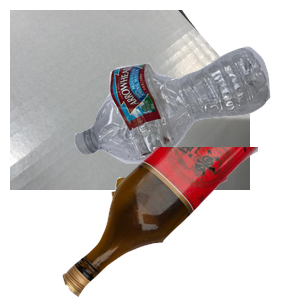cardboard: (10, 10, 250, 190)
glass: (60, 147, 300, 300)
plastic: (72, 44, 300, 200)
trash: (109, 175, 279, 300)
